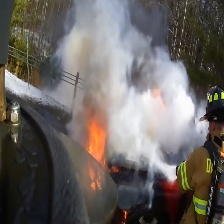fire: (85, 120, 117, 189)
